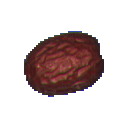gd: (10, 25, 109, 115)
